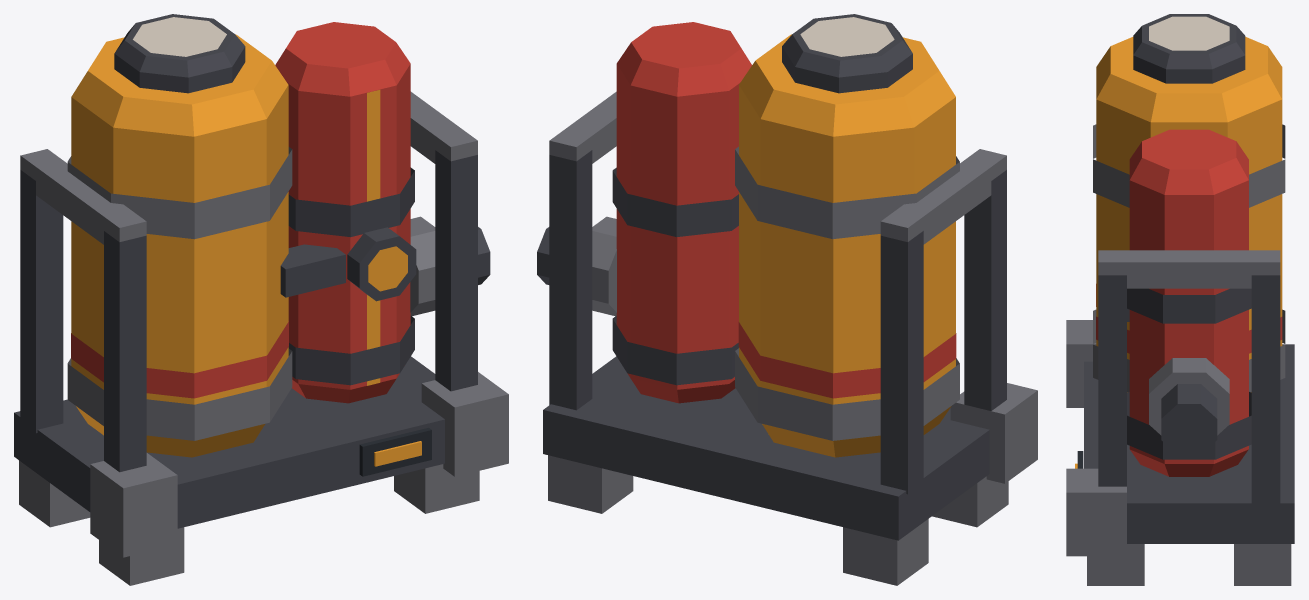
File: fuel_stationary.glb
The picture shows the model from 3 angles, left to right: view 1: azimuth 30°, elevation 25°; view 2: azimuth 150°, elevation 25°; view 3: azimuth 270°, elevation 25°; orthographic projection. The views are drawn at different scales.
Visible parts, largest first — view 1: Support_Frame.005, Main_Vessel.005, Auxiliary_Vessel.005, Main_Strap.010, Main_Strap.011, Fill_Cap.005, Lower_Colour_Band.005, Auxiliary_Strap.011, Auxiliary_Strap.010, Anchor_Foot.006, Tap_Bridge.005, Cap_Inset.005 (+8 smaller); view 2: Support_Frame.005, Main_Vessel.005, Auxiliary_Vessel.005, Main_Strap.010, Main_Strap.011, Fill_Cap.005, Lower_Colour_Band.005, Auxiliary_Strap.011, Auxiliary_Strap.010, Anchor_Foot.005, Anchor_Foot.007, Cap_Inset.005 (+2 smaller); view 3: Support_Frame.005, Auxiliary_Vessel.005, Main_Vessel.005, Fill_Cap.005, Pipe_Outlet.001, Auxiliary_Strap.011, Pipe_Collar.001, Main_Strap.011, Auxiliary_Strap.010, Anchor_Foot.007, Cap_Inset.005, Anchor_Foot.006 (+2 smaller).
Boxes of the visible parts, <box> form: Support_Frame.005: <box>14,91,508,557</box>; Main_Vessel.005: <box>71,34,288,457</box>; Auxiliary_Vessel.005: <box>275,22,410,403</box>; Main_Strap.010: <box>67,348,292,440</box>; Main_Strap.011: <box>67,147,292,239</box>; Fill_Cap.005: <box>114,14,245,93</box>; Lower_Colour_Band.005: <box>71,321,288,398</box>; Auxiliary_Strap.011: <box>288,167,414,237</box>; Auxiliary_Strap.010: <box>288,316,414,385</box>; Anchor_Foot.006: <box>394,464,479,513</box>; Tap_Bridge.005: <box>280,244,345,297</box>; Cap_Inset.005: <box>133,17,226,56</box>; Support_Frame.005: <box>543,91,1037,540</box>; Main_Vessel.005: <box>739,34,955,457</box>; Auxiliary_Vessel.005: <box>616,22,751,403</box>; Main_Strap.010: <box>735,348,959,440</box>; Main_Strap.011: <box>735,146,959,239</box>; Fill_Cap.005: <box>782,14,912,93</box>; Lower_Colour_Band.005: <box>738,321,956,398</box>; Auxiliary_Strap.011: <box>612,167,738,237</box>; Auxiliary_Strap.010: <box>612,316,738,385</box>; Anchor_Foot.005: <box>843,519,928,585</box>; Anchor_Foot.007: <box>548,455,633,513</box>; Cap_Inset.005: <box>800,17,894,56</box>; Support_Frame.005: <box>1066,250,1294,556</box>; Auxiliary_Vessel.005: <box>1129,129,1248,476</box>; Main_Vessel.005: <box>1096,36,1282,392</box>; Fill_Cap.005: <box>1133,14,1245,83</box>; Pipe_Outlet.001: <box>1161,384,1217,454</box>; Auxiliary_Strap.011: <box>1127,288,1251,323</box>; Pipe_Collar.001: <box>1149,358,1229,435</box>; Main_Strap.011: <box>1093,124,1285,207</box>; Auxiliary_Strap.010: <box>1127,392,1251,459</box>; Anchor_Foot.007: <box>1234,544,1291,585</box>; Cap_Inset.005: <box>1149,16,1229,50</box>; Anchor_Foot.006: <box>1087,544,1144,585</box>.
Bounding box in the file's own units: 1.39 × 1.53 × 0.715.
